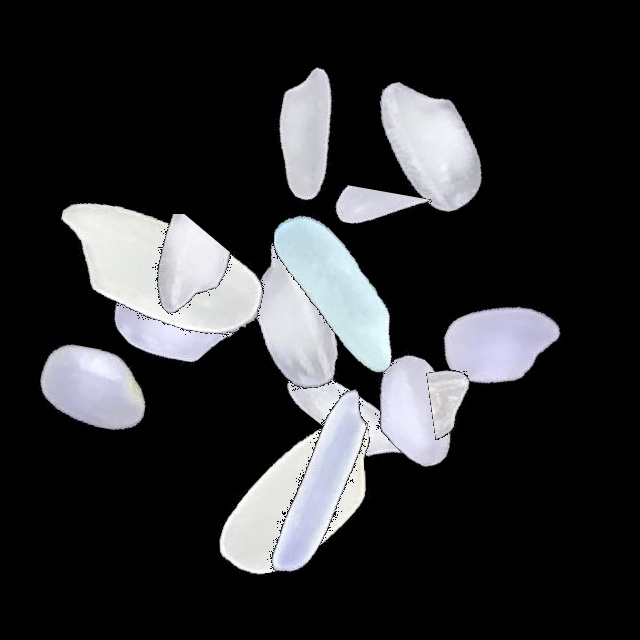Broken: (0, 301, 171, 551), (34, 214, 284, 358), (325, 129, 447, 379), (355, 352, 605, 451)
Full: (305, 21, 555, 271), (49, 192, 299, 442), (225, 291, 475, 541), (294, 285, 544, 535), (168, 188, 418, 438), (168, 369, 418, 619), (213, 165, 463, 415), (184, 10, 434, 260), (378, 218, 628, 468), (33, 143, 283, 393), (190, 358, 440, 608)
